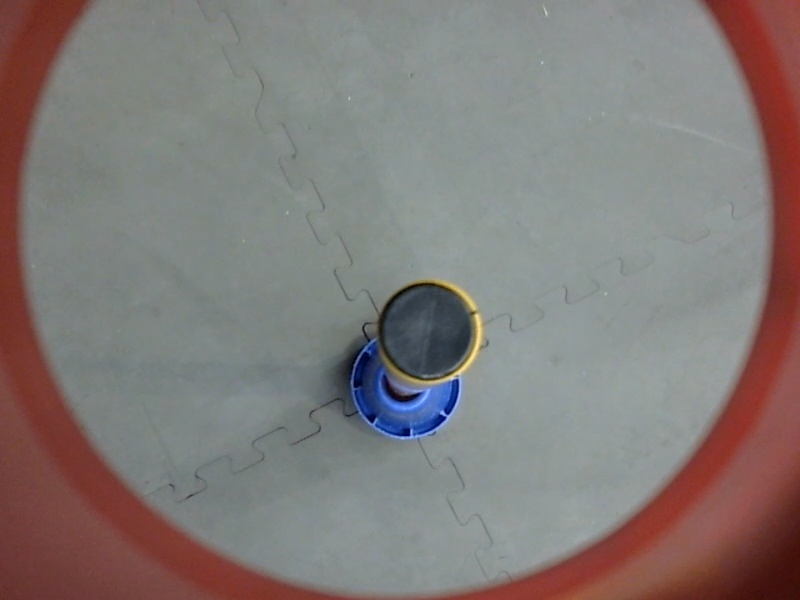tip: (372, 273, 486, 390)
